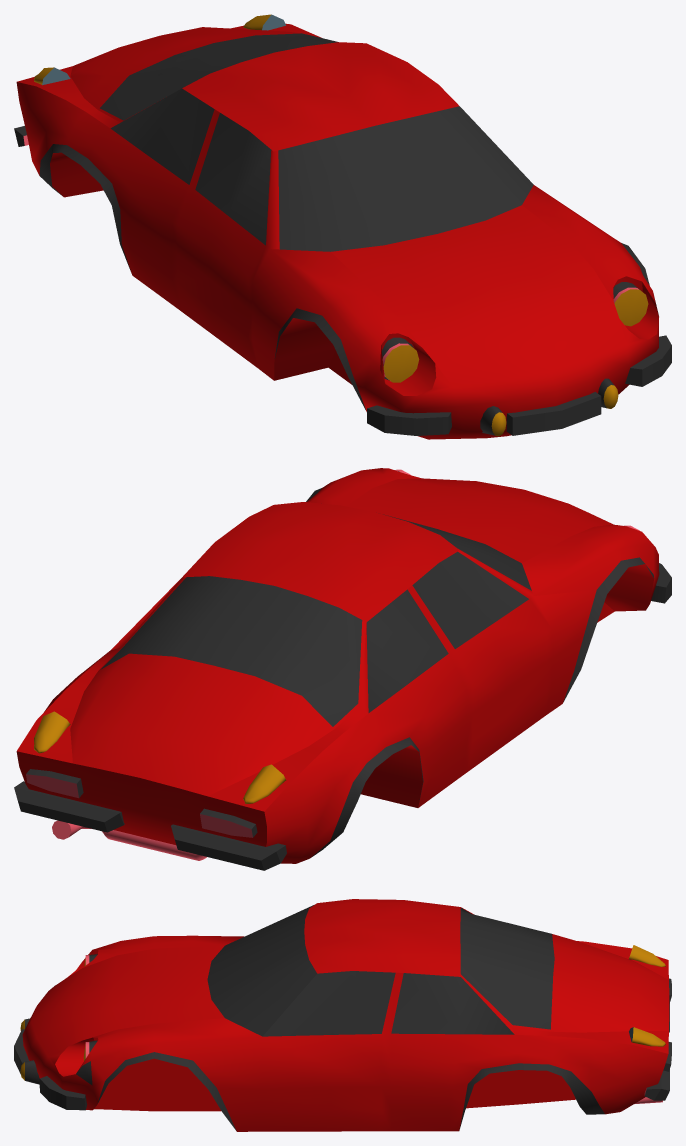
Rendered from car_5.fbx.
3 renders of one model, top to bottom at view 1: azimuth 30°, elevation 25°; view 2: azimuth 150°, elevation 25°; view 3: azimuth 270°, elevation 25°, orthographic. The views are drawn at different scales.
Parts seen in each view (by area): view 1: Renault Alpine, Renault Alpine.002; view 2: Renault Alpine, Renault Alpine.002; view 3: Renault Alpine, Renault Alpine.002.
Part boxes in pixels (<box>): Renault Alpine: <box>14,14,671,439</box>; Renault Alpine.002: <box>100,33,530,251</box>; Renault Alpine: <box>14,468,671,870</box>; Renault Alpine.002: <box>100,514,531,726</box>; Renault Alpine: <box>14,899,671,1131</box>; Renault Alpine.002: <box>207,905,554,1036</box>.
Size of the model in its own units: 163 by 98.64 by 382.
